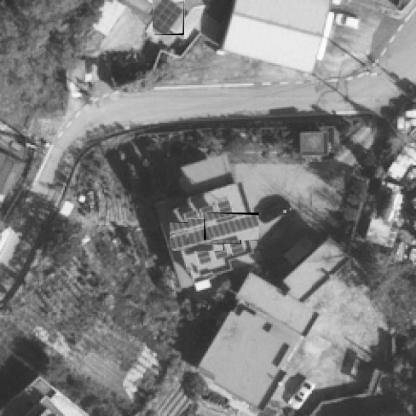solar-pv-panel: (170, 224, 224, 250), (205, 215, 259, 240), (188, 219, 241, 244), (153, 0, 184, 34)
